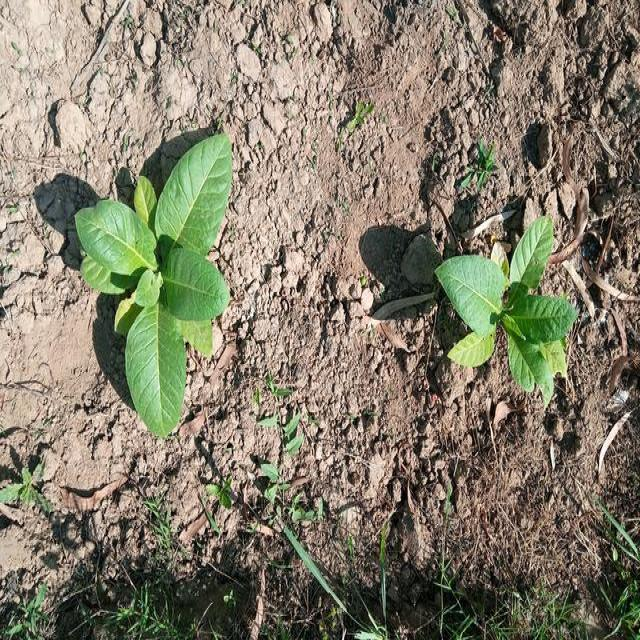crop: (81, 138, 242, 434), (438, 210, 572, 384)
